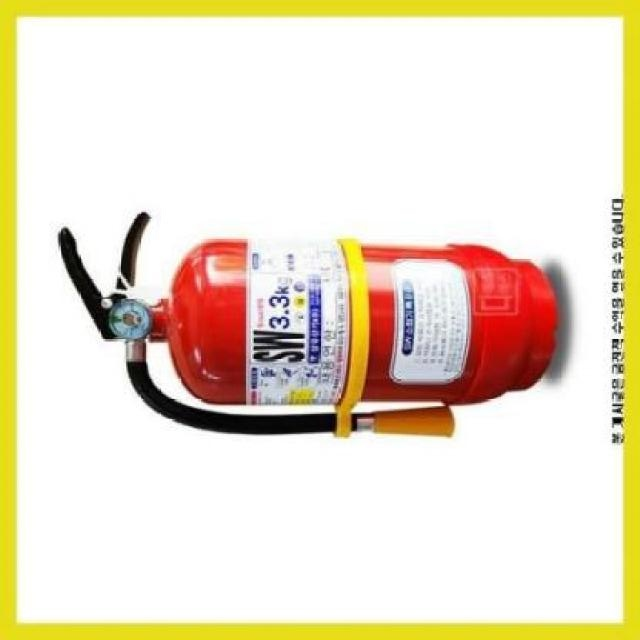fire extinguisher: (58, 209, 559, 440)
